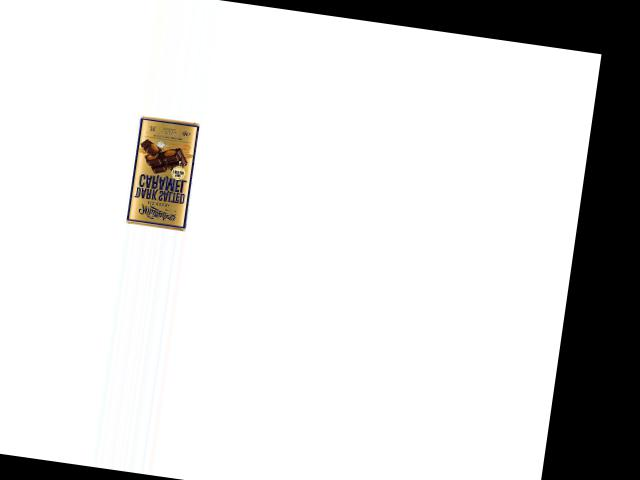chocolate: (124, 112, 205, 231)
